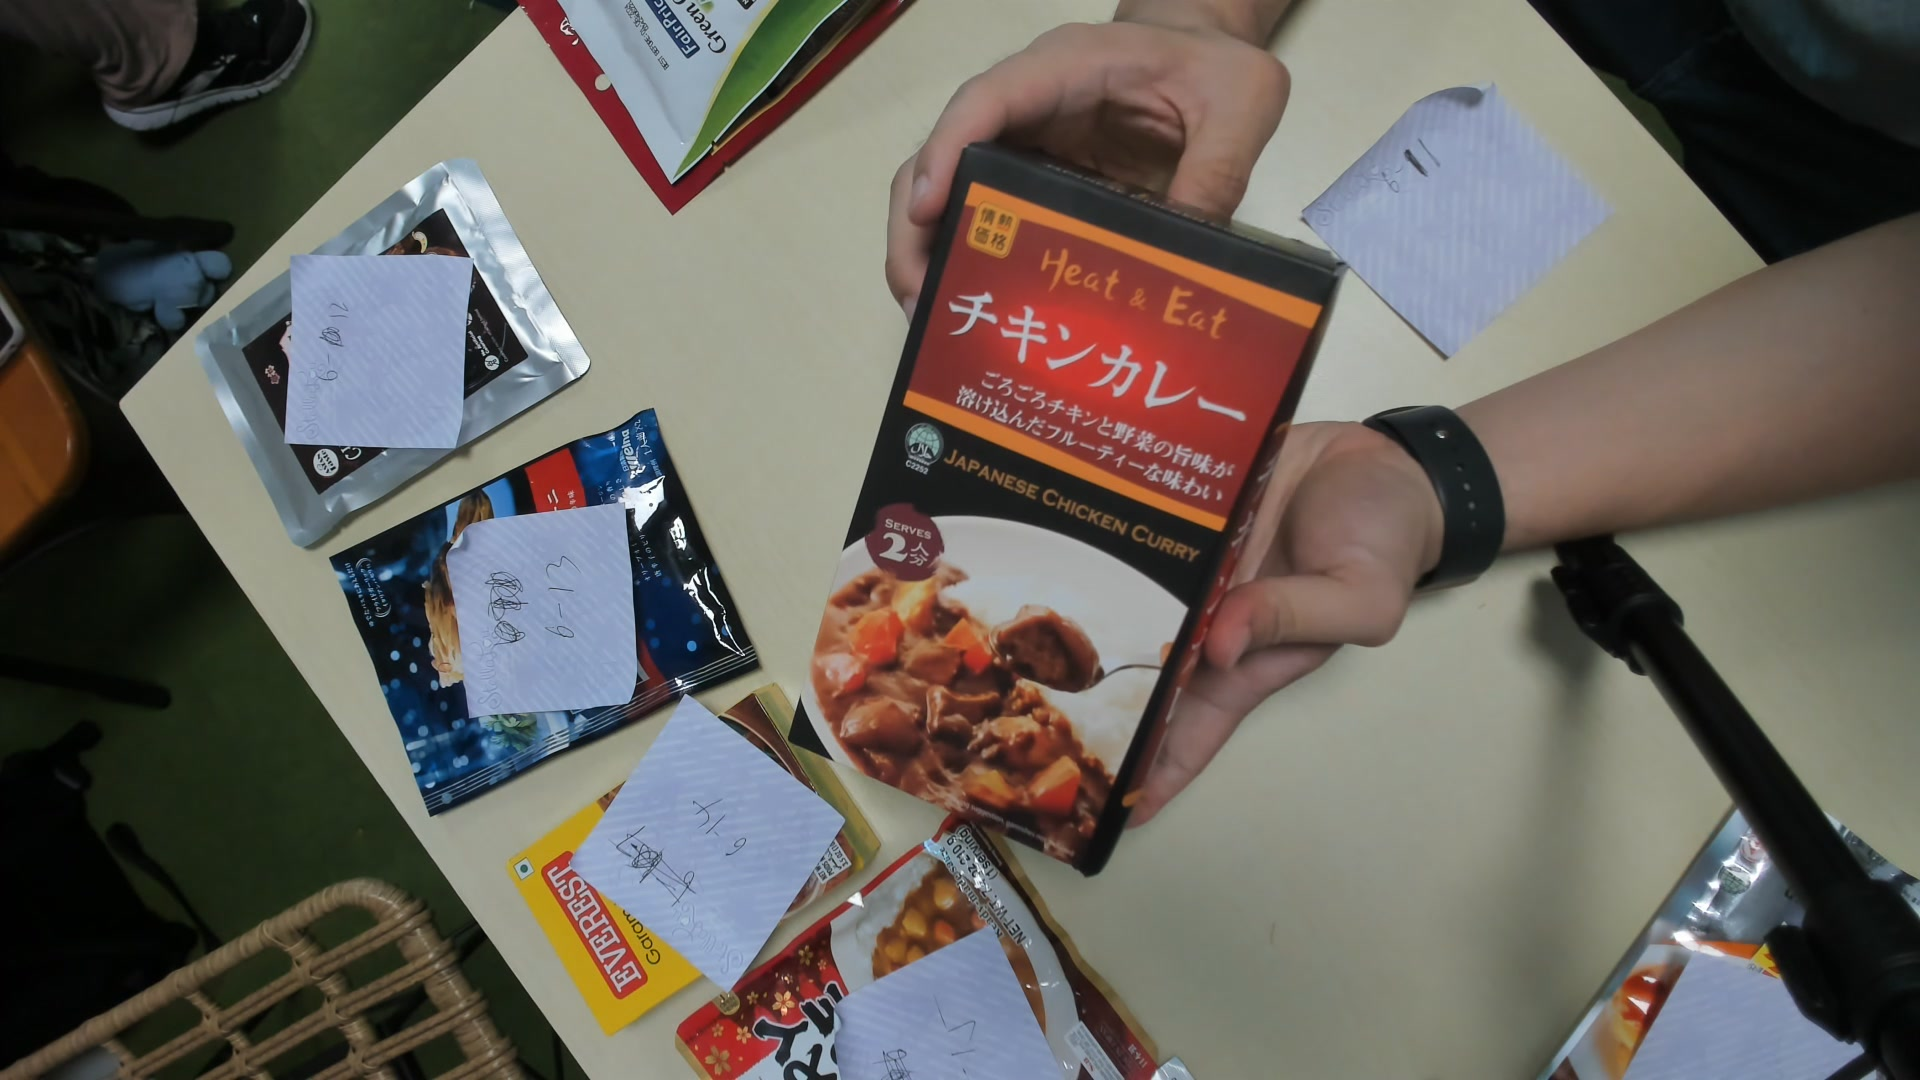CurryPastePowderSauce_200-299g_Halal_NonHealthy: (789, 146, 1346, 884)
